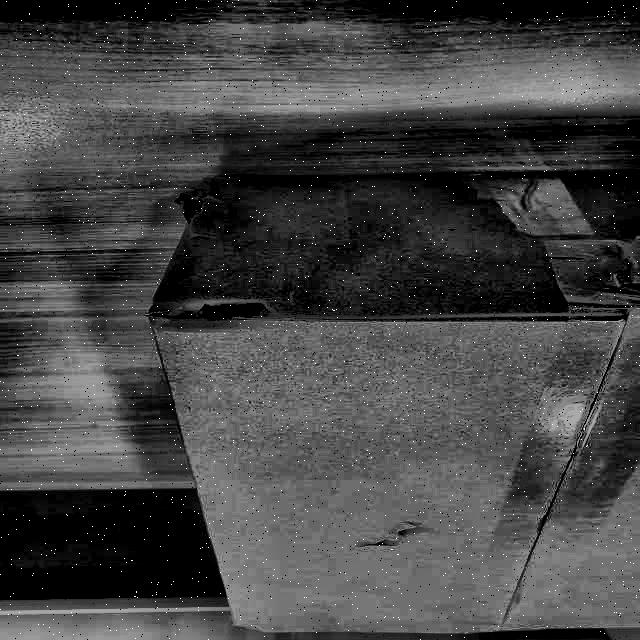box: (141, 159, 637, 635)
hole: (150, 294, 271, 334), (361, 509, 442, 553), (173, 183, 215, 225)
